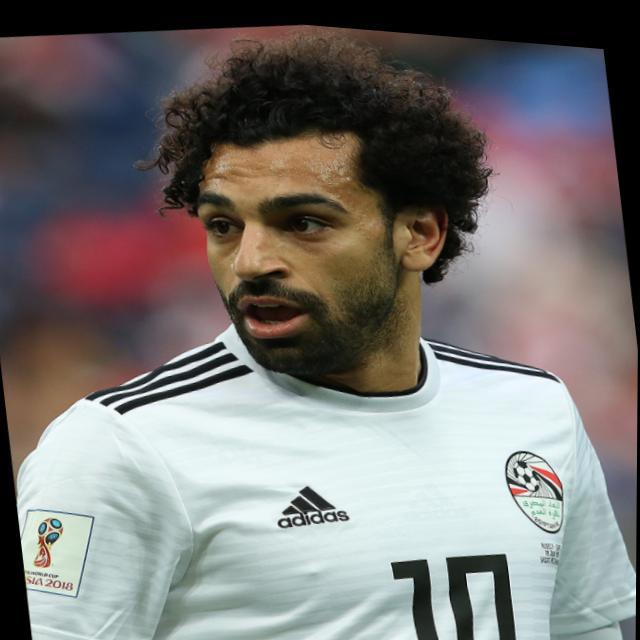Nonhelmet: (172, 73, 460, 377)
